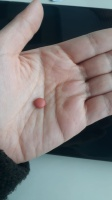Dolorex: (33, 98, 46, 108)
